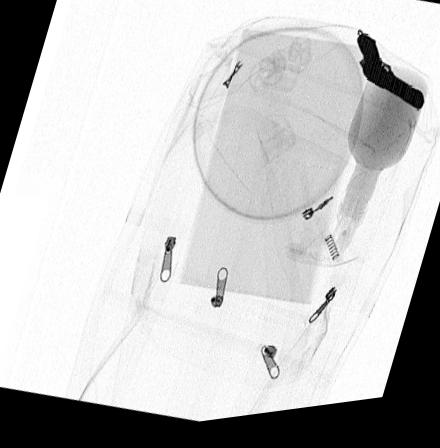Gun: (355, 43, 424, 117)
